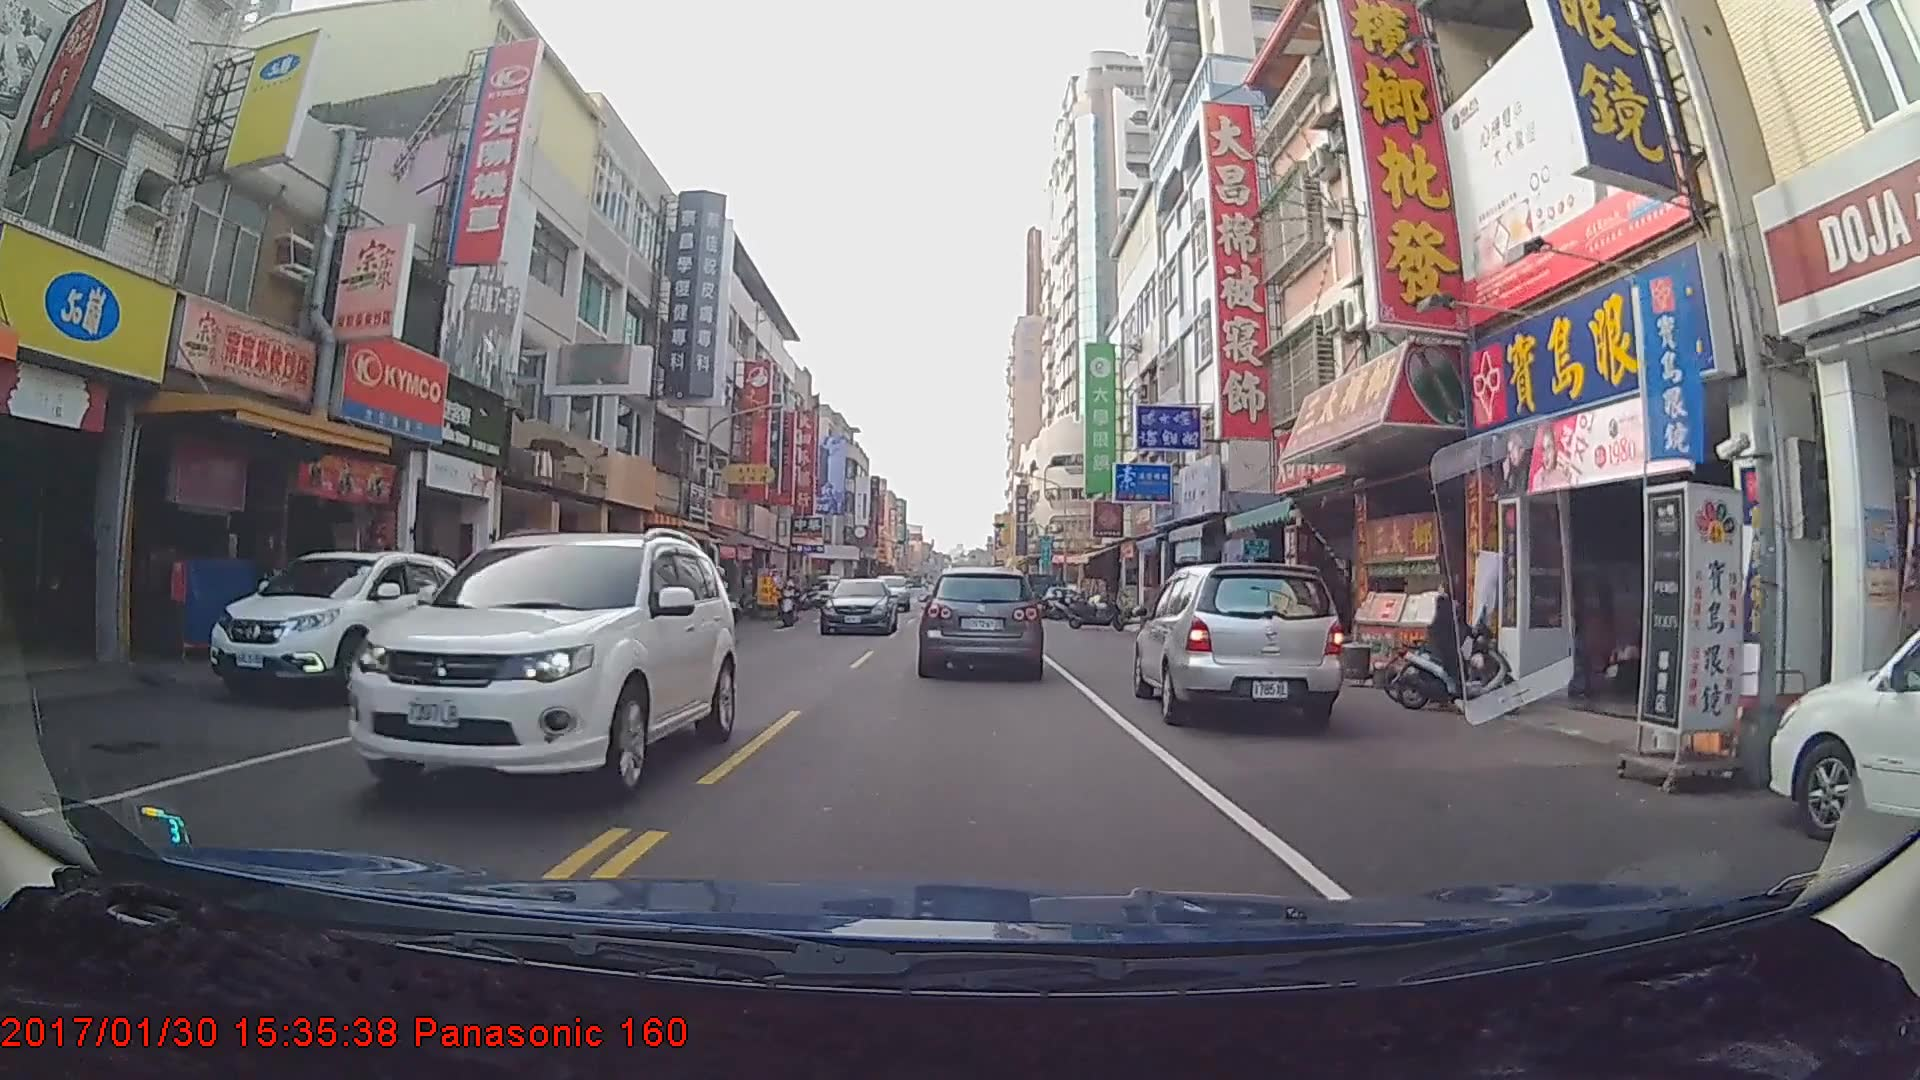rider: (1394, 574, 1534, 726), (772, 573, 803, 626)
vehicle: (346, 526, 735, 801), (1768, 571, 1920, 892), (205, 549, 454, 704), (1131, 562, 1343, 733), (921, 564, 1039, 676), (817, 575, 897, 635), (867, 573, 910, 612)
